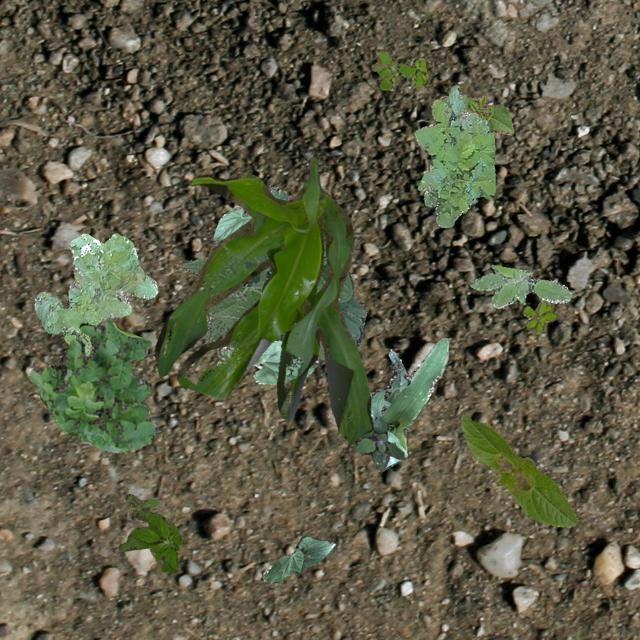crop: (154, 156, 372, 442), (180, 236, 366, 360), (459, 412, 576, 526), (360, 337, 448, 468), (216, 338, 318, 384), (212, 186, 288, 242), (262, 534, 334, 582), (438, 94, 512, 134)
weed: (28, 318, 158, 452), (34, 232, 156, 354), (414, 84, 494, 225), (118, 494, 182, 572), (468, 264, 570, 308), (354, 414, 404, 469), (370, 51, 426, 88), (522, 302, 556, 332)
